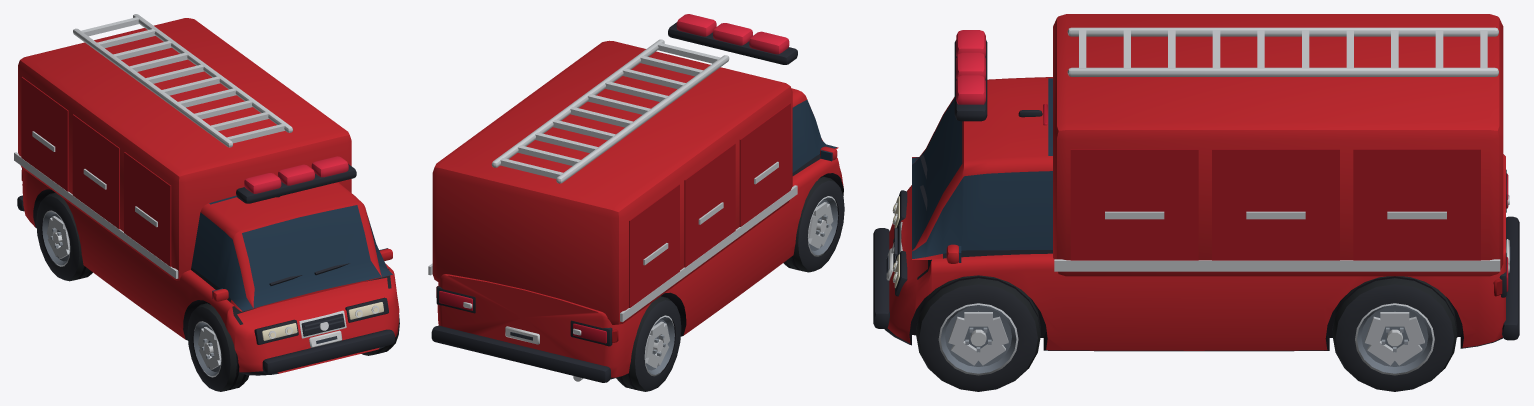
Rendered from special-firetruck.glb.
The picture shows the model from 3 angles, left to right: view 1: azimuth 30°, elevation 25°; view 2: azimuth 150°, elevation 25°; view 3: azimuth 270°, elevation 25°; orthographic projection. The views are drawn at different scales.
Parts seen in each view (by area): view 1: firetruck_mesh, firetruck; view 2: firetruck_mesh, firetruck; view 3: firetruck_mesh, firetruck.
Part boxes in pixels (bbox=[...]): firetruck_mesh: bbox=[14, 14, 399, 375]; firetruck: bbox=[36, 192, 399, 391]; firetruck_mesh: bbox=[428, 14, 843, 382]; firetruck: bbox=[616, 176, 844, 391]; firetruck_mesh: bbox=[873, 14, 1519, 351]; firetruck: bbox=[916, 275, 1457, 391].
Bounding box in the file's own units: 1.95 × 2.15 × 4.35.
